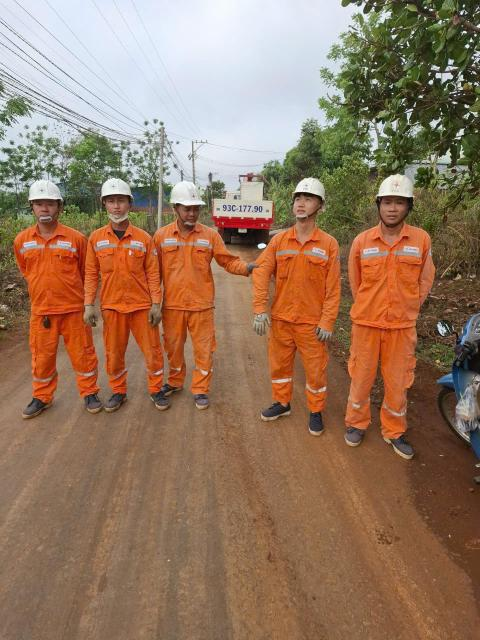gloves: (75, 303, 109, 330), (247, 312, 279, 340), (145, 301, 172, 334), (307, 317, 338, 343), (242, 258, 270, 279)
helmet: (372, 162, 430, 208), (21, 172, 77, 208), (94, 172, 139, 208), (167, 178, 203, 219), (292, 173, 333, 204)
shoes: (370, 423, 423, 468), (93, 377, 135, 415), (290, 400, 331, 438), (237, 399, 299, 424), (324, 419, 368, 453), (128, 386, 173, 417), (12, 386, 53, 418), (177, 385, 218, 415), (81, 384, 104, 415), (152, 374, 182, 397)
